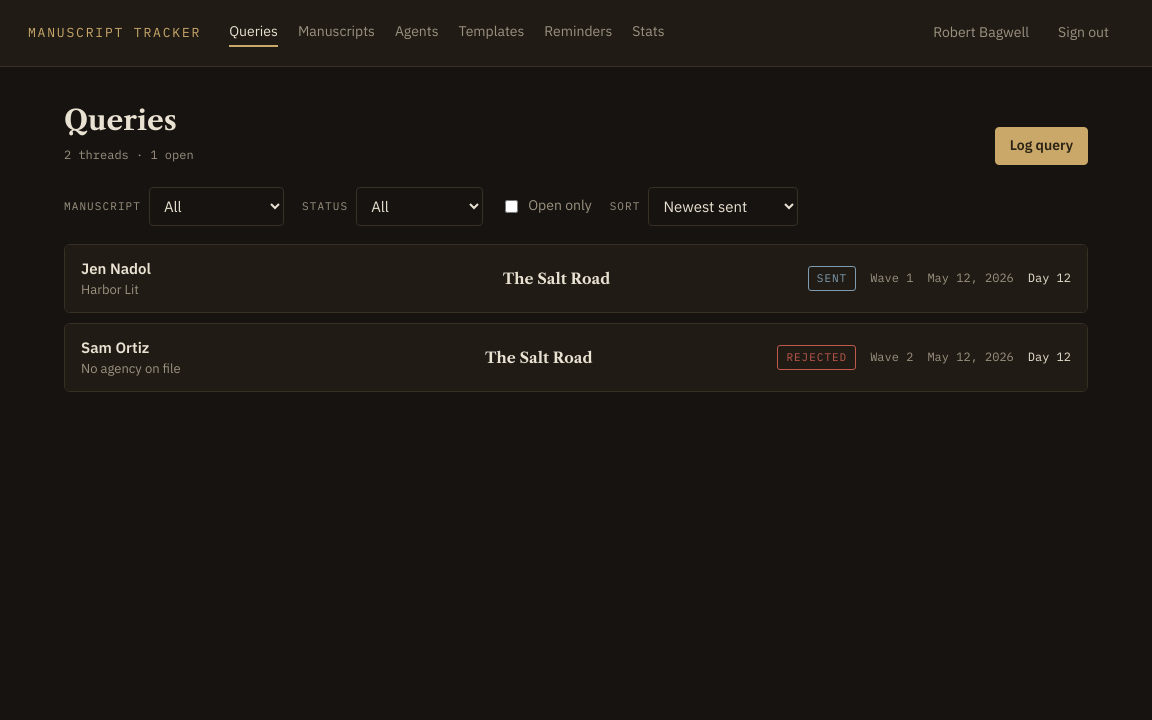
Test: QueriesPage › logging an event updates the thread status in the ledger
Step 1. Click the button "Jen Nadol" → (576, 278), box [65,245,1087,312]
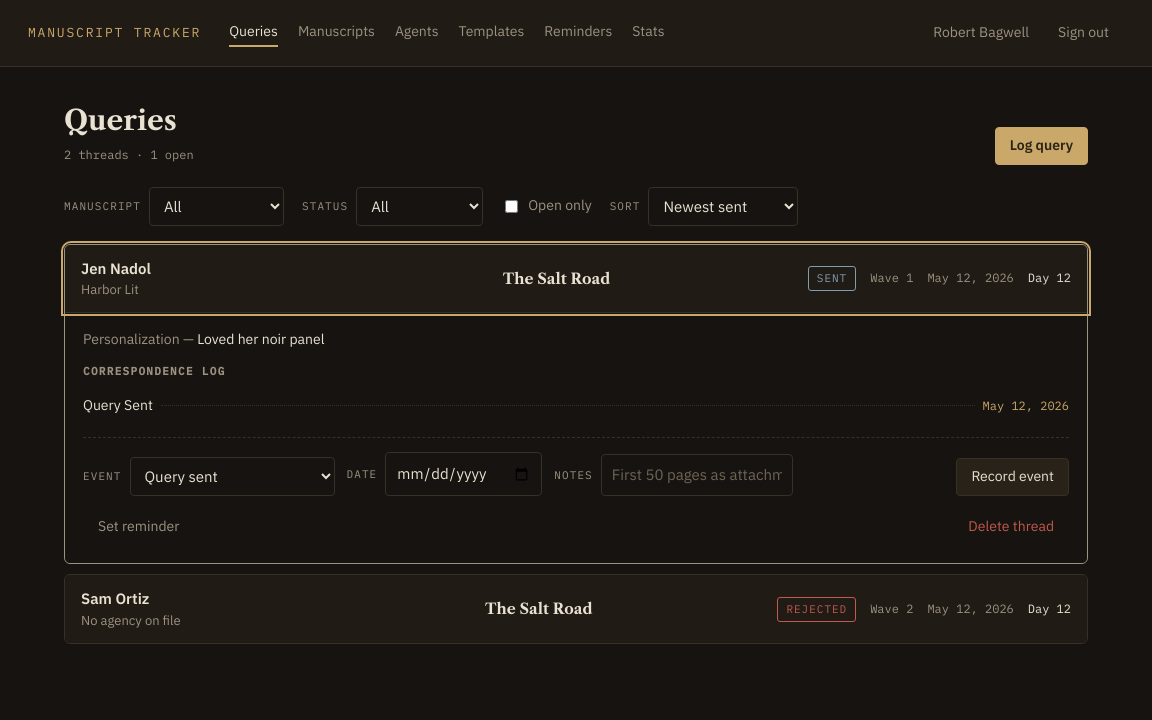
Expected: the text "Query Sent" is shown, [83,395,153,416]
Step 2. Select "Partial requested" in the dropdown labelled "Event" → (232, 476), box [130,457,334,496]
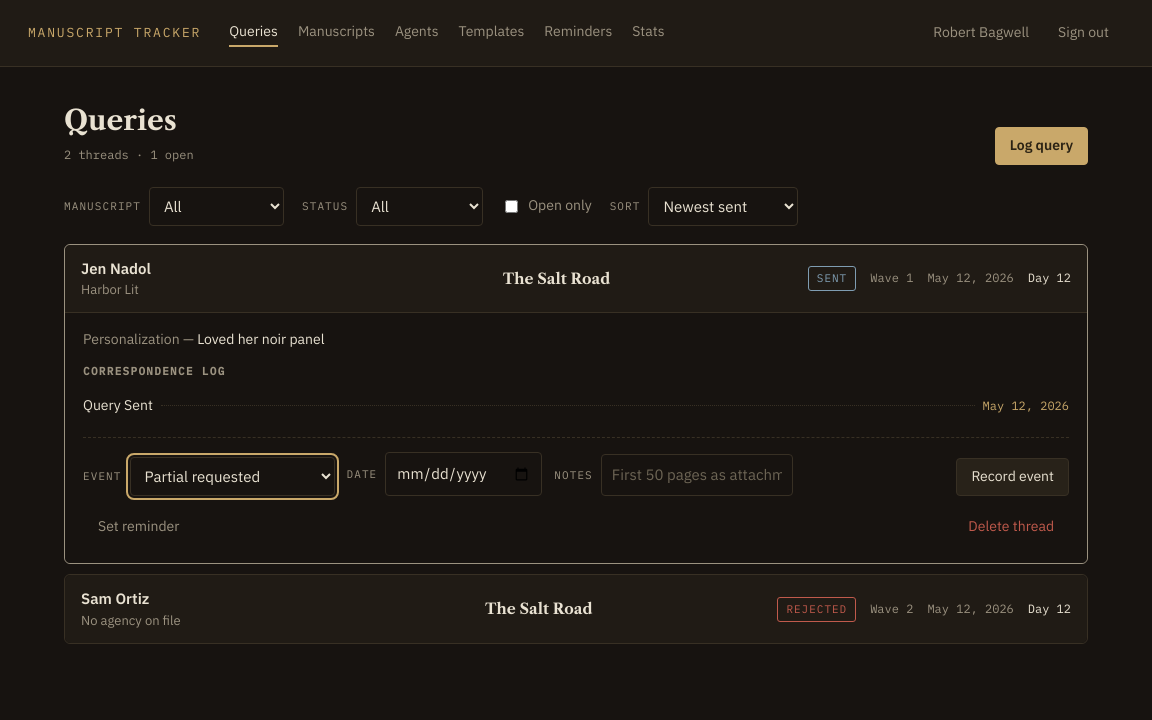
Step 3. Type "First 50" into the field labelled "Notes" → (697, 475), box [601,454,793,496]
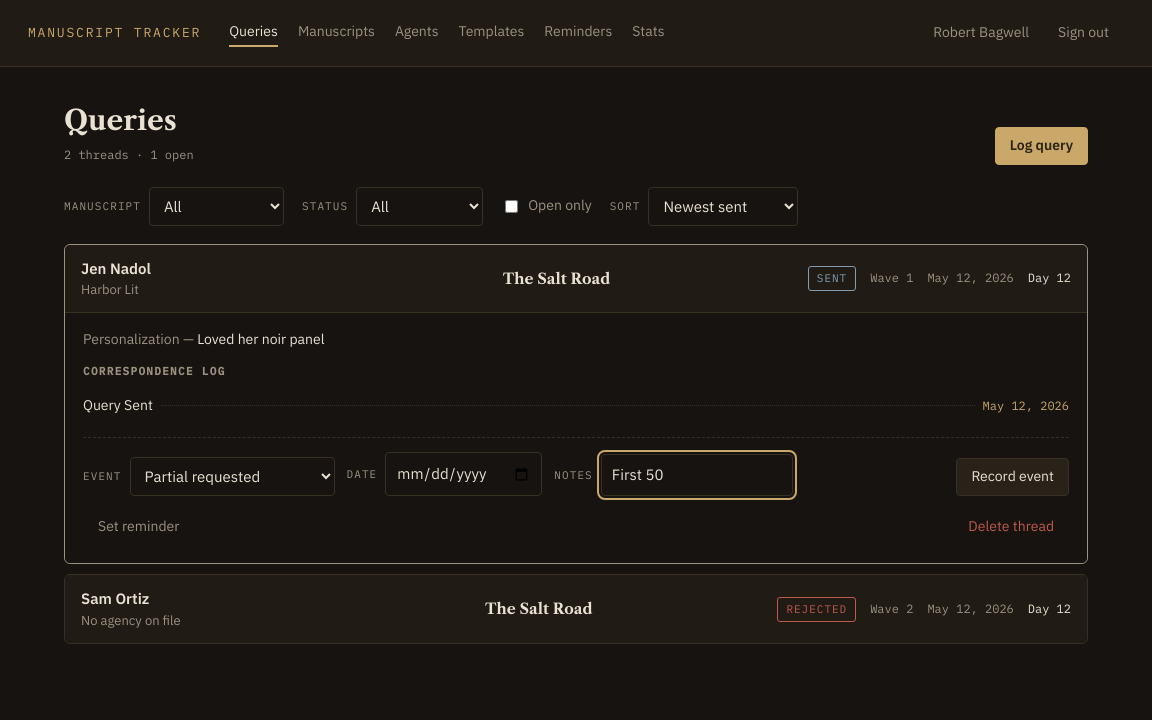
Step 4. Click the button "Record event" → (1013, 477), box [956,458,1069,496]
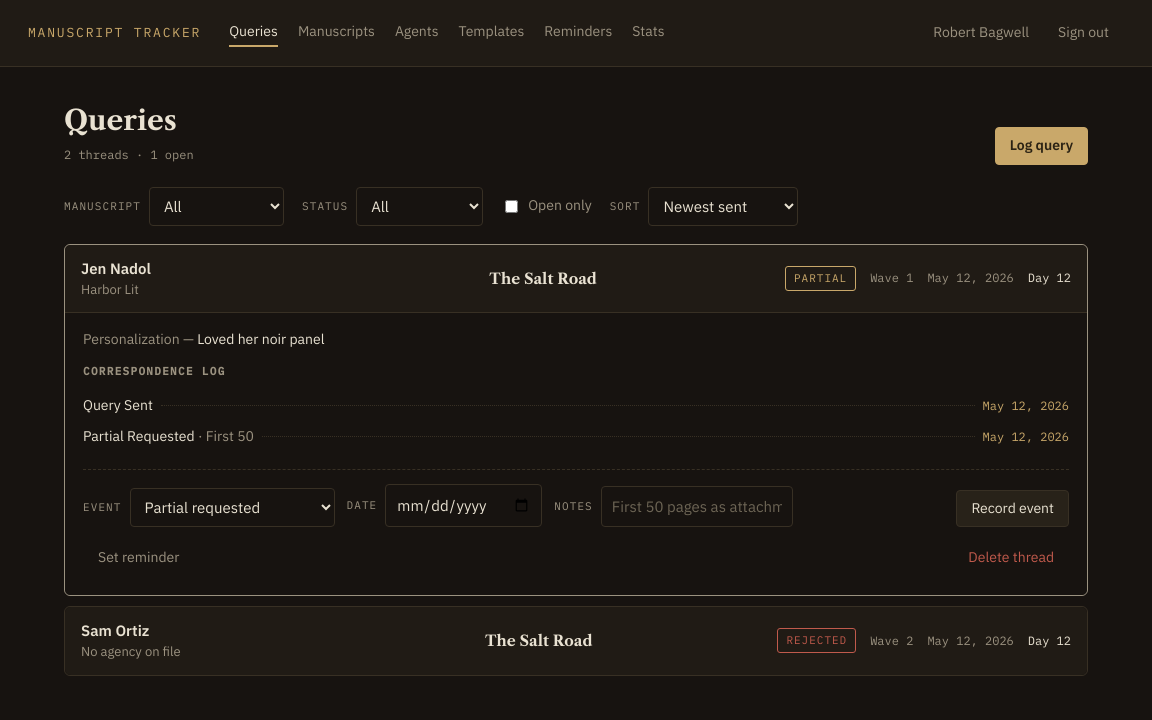
Expected: the text "Partial Requested" is shown, [83,428,195,446]
Expected: the text "· First 50" is shown, [195,428,254,446]
Expected: the field labelled "Notes" is empty, [601,486,793,528]
